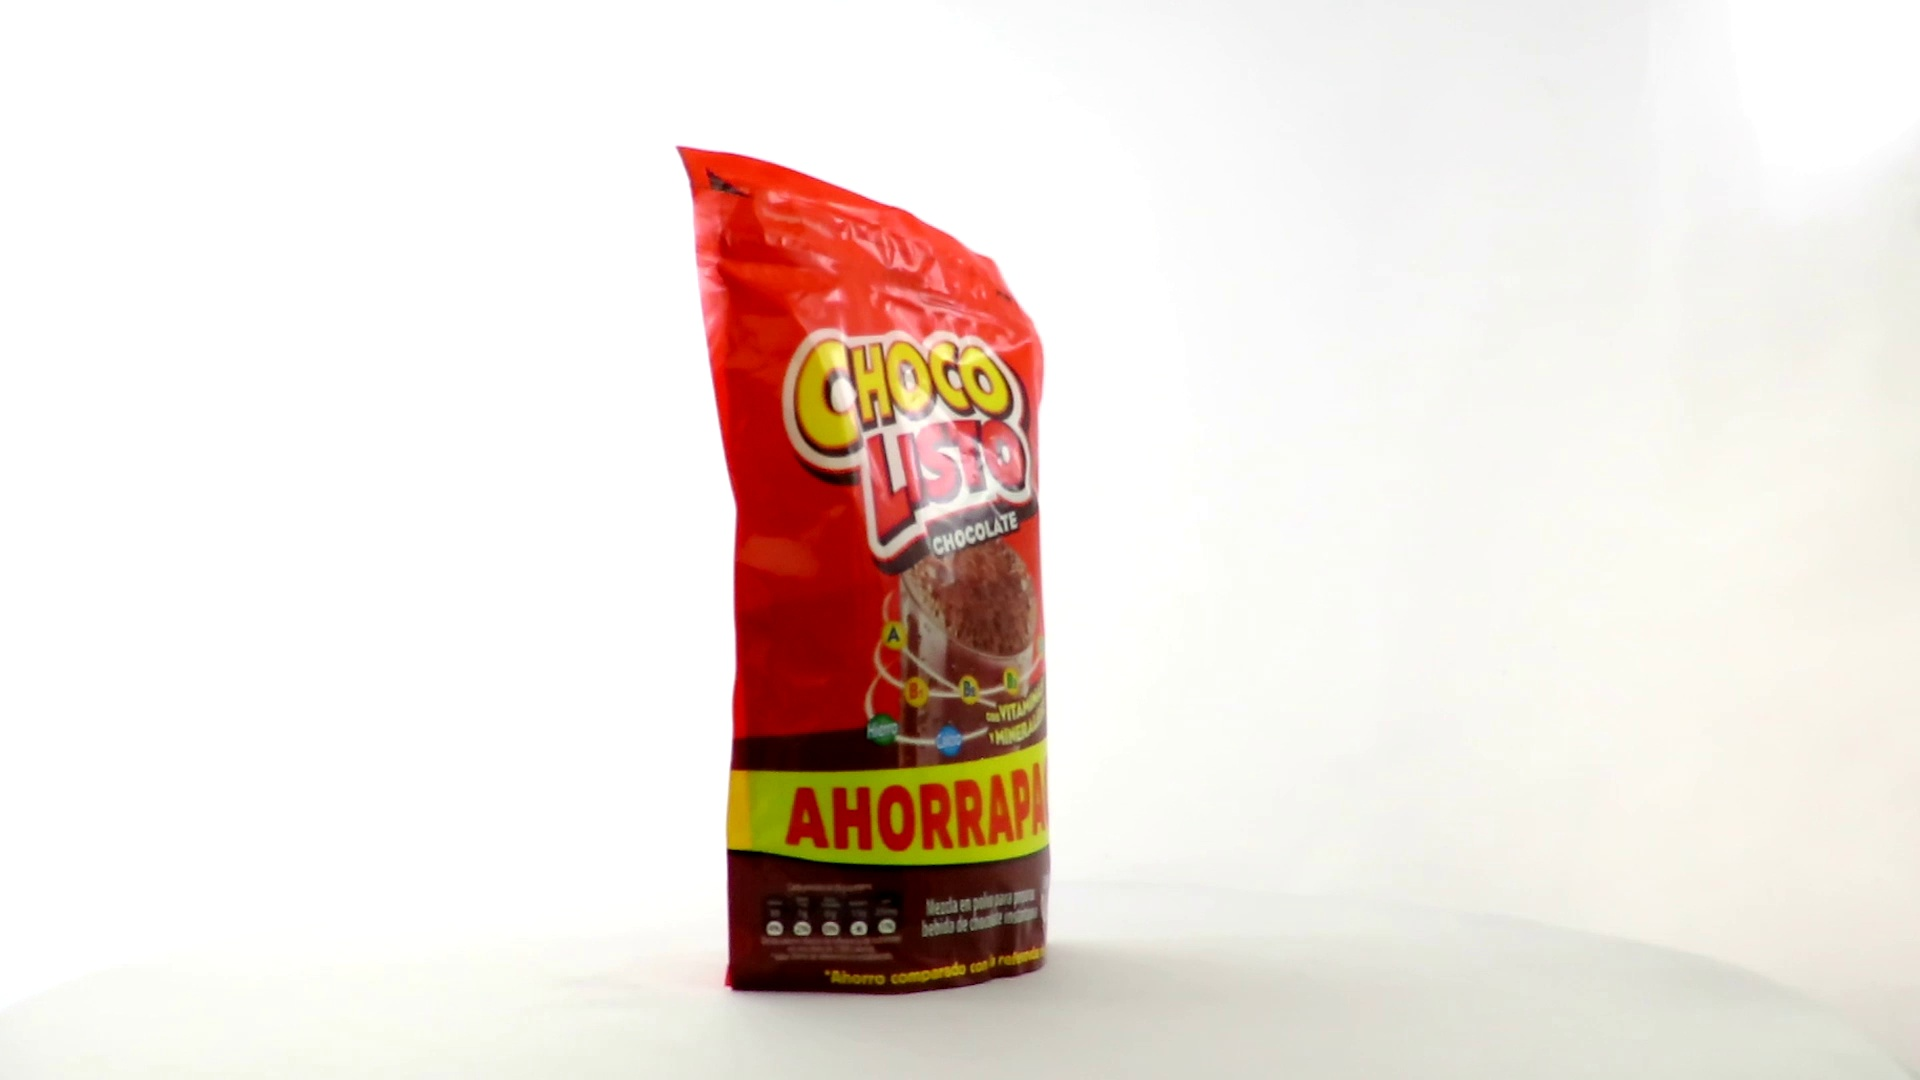COL0170103DYP36000: (670, 141, 1058, 1002)
